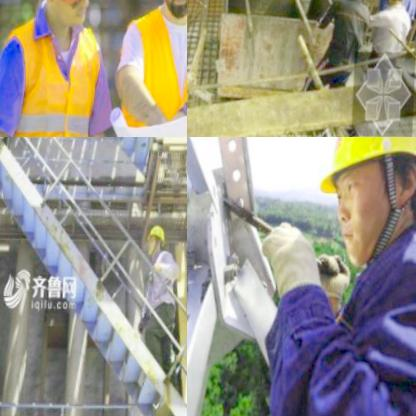helmet: (299, 137, 416, 279), (22, 0, 110, 41), (140, 228, 165, 265), (380, 0, 412, 17), (339, 0, 373, 10)
